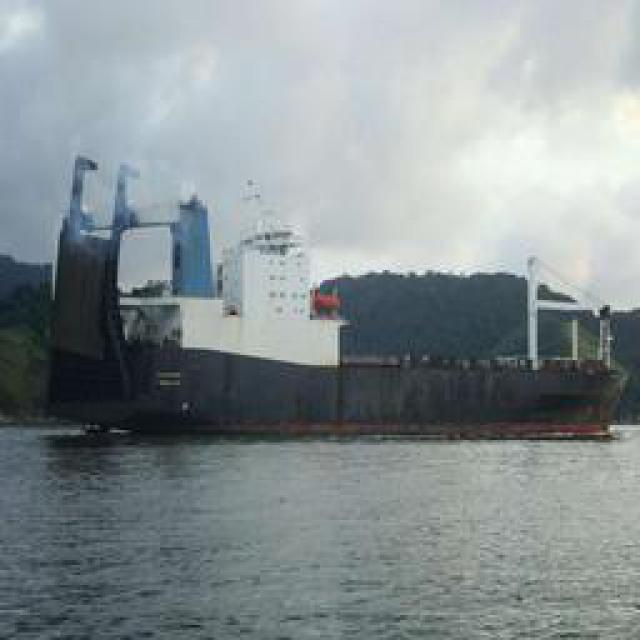Ship: (37, 148, 640, 450)
